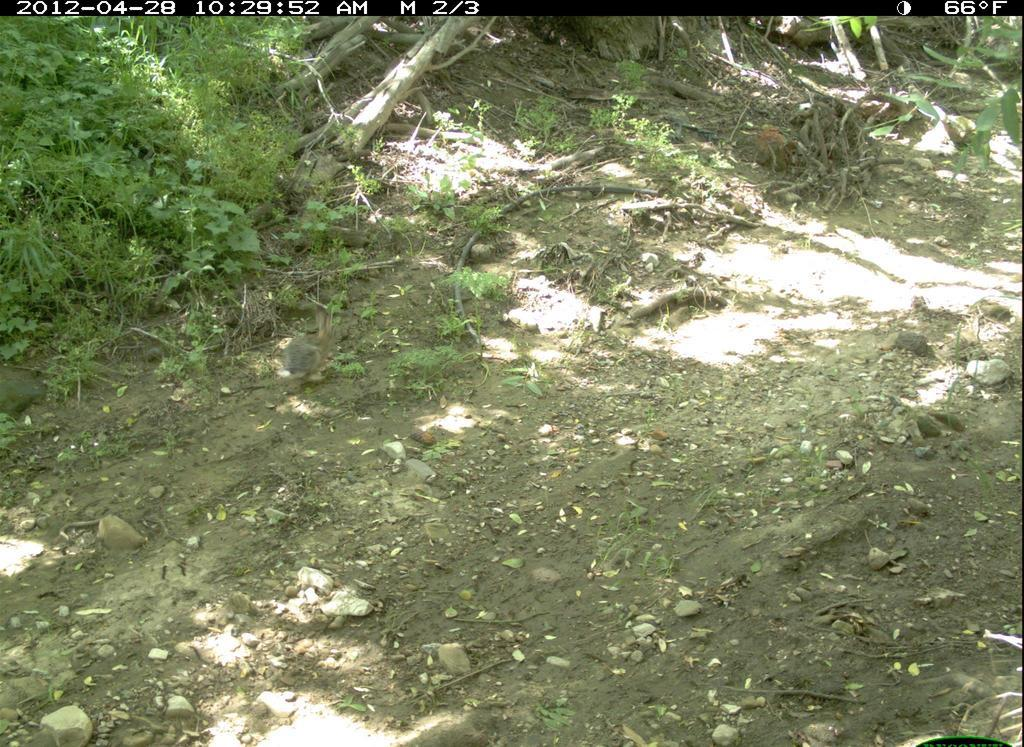rabbit: (276, 300, 349, 387)
